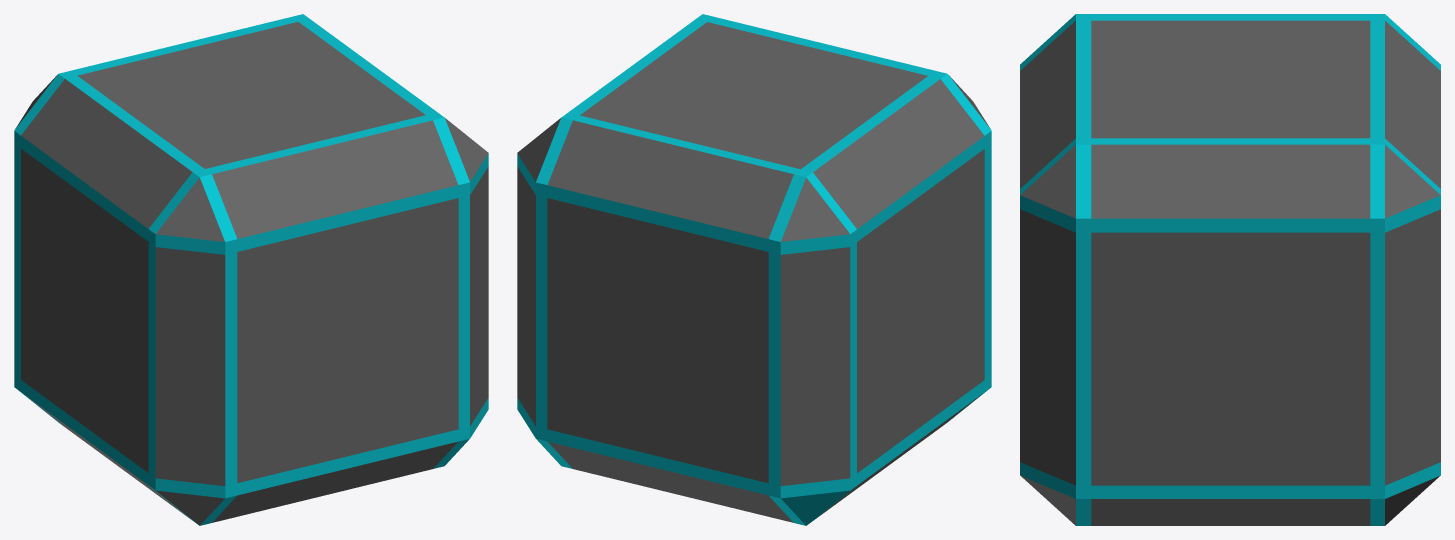
3 renders of one model, left to right at view 1: azimuth 30°, elevation 25°; view 2: azimuth 150°, elevation 25°; view 3: azimuth 270°, elevation 25°, orthographic. The views are drawn at different scales.
Visible parts, largest first — view 1: Cube; view 2: Cube; view 3: Cube.
Part boxes in pixels (x1,y1,x2,y2): Cube: (14,14,488,525); Cube: (517,14,991,525); Cube: (1020,14,1440,525).
Bounding box in the file's own units: 200 × 200 × 200.
